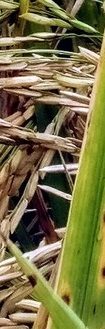Bercak Coklat: (24, 272, 41, 293), (59, 289, 74, 312)
